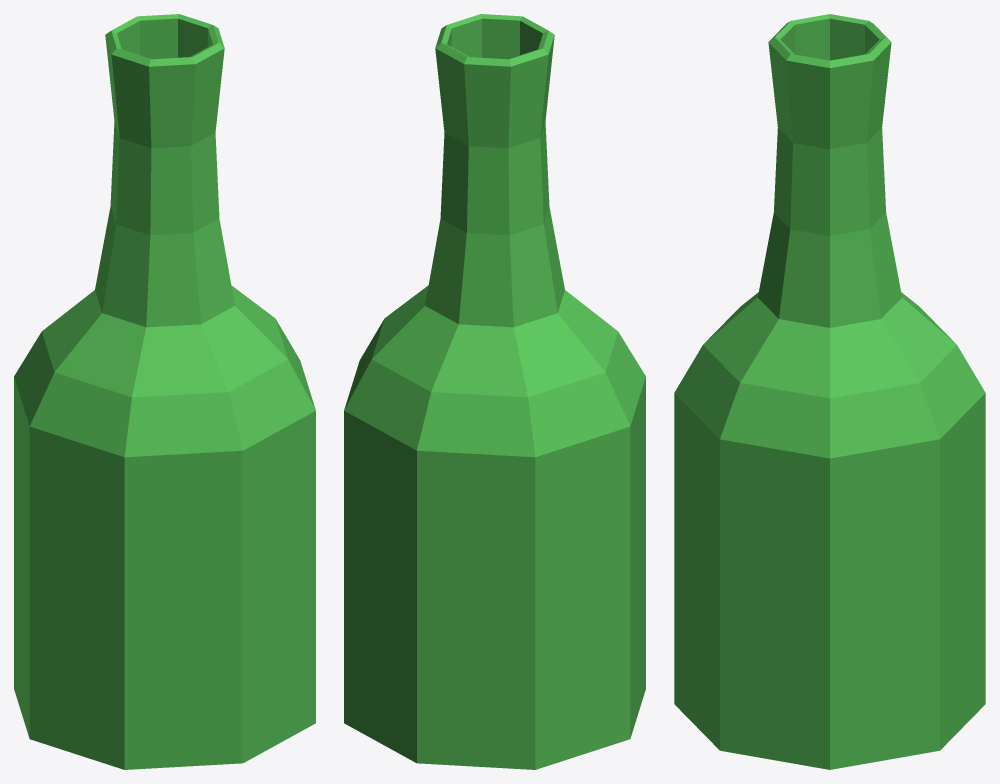
The model's file is bottle.fbx.
3 views of the same model, side by side, from view 1: azimuth 30°, elevation 25°; view 2: azimuth 150°, elevation 25°; view 3: azimuth 270°, elevation 25° (orthographic).
Visible parts, largest first — view 1: bottle; view 2: bottle; view 3: bottle.
Part boxes in pixels (x1,y1,x2,y2): bottle: (14, 14, 315, 769); bottle: (344, 14, 645, 769); bottle: (674, 14, 985, 769).
Size of the model in its own units: 0.1341 by 0.3168 by 0.1341.
